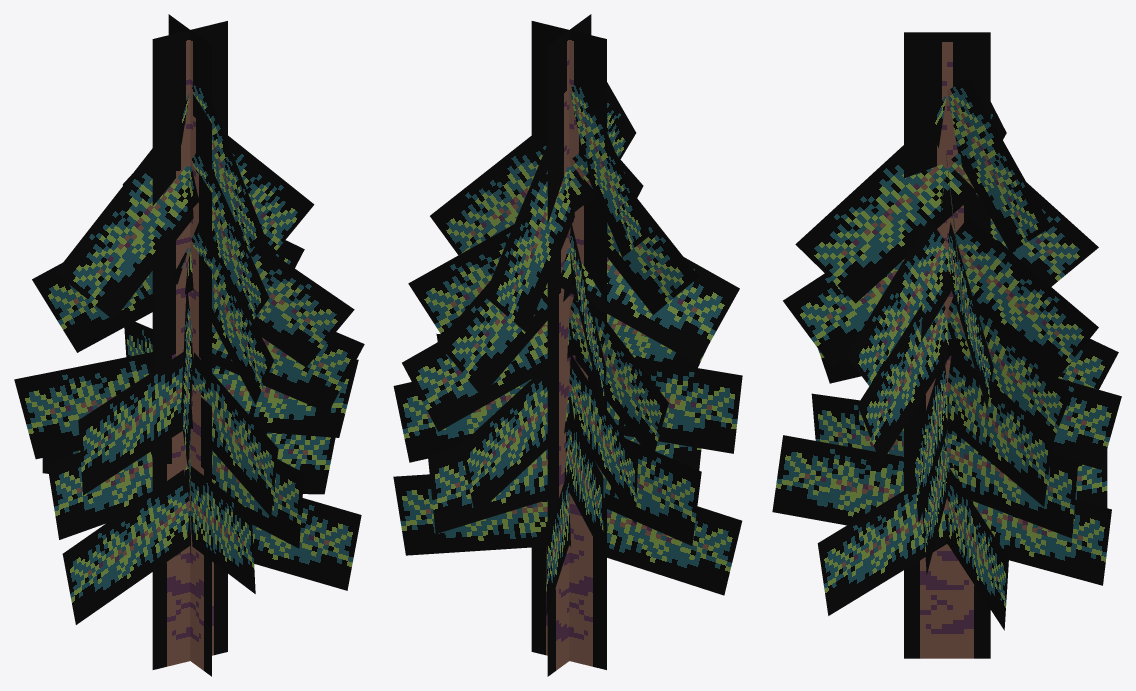
The model's file is pine.glb.
3 renders of one model, left to right at view 1: azimuth 30°, elevation 25°; view 2: azimuth 150°, elevation 25°; view 3: azimuth 270°, elevation 25°, orthographic.
Visible parts, largest first — view 1: pine; view 2: pine; view 3: pine.
Boxes of the visible parts, bbox=[...] form: pine: bbox=[14, 14, 364, 676]; pine: bbox=[393, 14, 742, 676]; pine: bbox=[772, 32, 1121, 658].
Size of the model in its own units: 3.99 by 8 by 4.06.
1 material, 1 textured.
